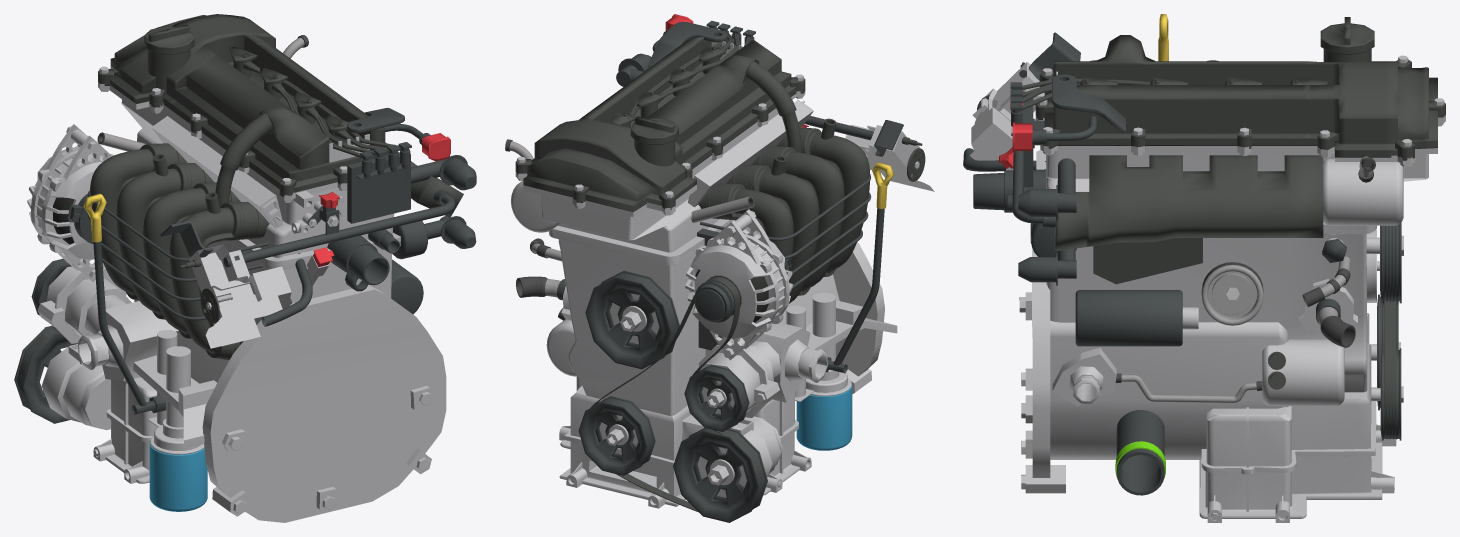
The model's file is engine-i4.glb.
The picture shows the model from 3 angles, left to right: view 1: azimuth 30°, elevation 25°; view 2: azimuth 150°, elevation 25°; view 3: azimuth 270°, elevation 25°; orthographic projection. The views are drawn at different scales.
Visible parts, largest first — view 1: kappa_engine_metal_silver_kappa_engine_metal_silver_0, kappa_engine_plastic_black_kappa_engine_plastic_black_0, kappa_engine_metal_black_kappa_engine_metal_black_0, kappa_engine_metal_blue_kappa_engine_metal_blue_0, kappa_engine_metal_red_kappa_engine_metal_red_0, kappa_engine_yellow_metal_kappa_engine_yellow_metal_0, kappa_engine_net_kappa_engine_net_0; view 2: kappa_engine_metal_silver_kappa_engine_metal_silver_0, kappa_engine_plastic_black_kappa_engine_plastic_black_0, kappa_engine_metal_black_kappa_engine_metal_black_0, kappa_engine_metal_blue_kappa_engine_metal_blue_0, kappa_engine_plastic_black0_kappa_engine_plastic_black0_0, kappa_engine_metal_silver4_kappa_engine_metal_silver4_0, kappa_engine_metal_silver2_kappa_engine_metal_silver2_0, kappa_engine_yellow_metal_kappa_engine_yellow_metal_0; view 3: kappa_engine_metal_silver_kappa_engine_metal_silver_0, kappa_engine_plastic_black_kappa_engine_plastic_black_0, kappa_engine_metal_black_kappa_engine_metal_black_0, kappa_engine_metal_silver2_kappa_engine_metal_silver2_0, kappa_engine_metal_black1_kappa_engine_metal_black1_0, kappa_engine_plastic_black0_kappa_engine_plastic_black0_0, kappa_engine_metal_red_kappa_engine_metal_red_0.
Part boxes in pixels (x1,y1,x2,y2): kappa_engine_metal_silver_kappa_engine_metal_silver_0: [27, 66, 446, 522]; kappa_engine_plastic_black_kappa_engine_plastic_black_0: [18, 14, 463, 403]; kappa_engine_metal_black_kappa_engine_metal_black_0: [14, 107, 476, 423]; kappa_engine_metal_blue_kappa_engine_metal_blue_0: [149, 442, 207, 511]; kappa_engine_metal_red_kappa_engine_metal_red_0: [313, 133, 450, 267]; kappa_engine_yellow_metal_kappa_engine_yellow_metal_0: [83, 193, 106, 242]; kappa_engine_net_kappa_engine_net_0: [53, 197, 74, 244]; kappa_engine_metal_silver_kappa_engine_metal_silver_0: [510, 41, 934, 508]; kappa_engine_plastic_black_kappa_engine_plastic_black_0: [515, 27, 925, 512]; kappa_engine_metal_black_kappa_engine_metal_black_0: [557, 20, 903, 522]; kappa_engine_metal_blue_kappa_engine_metal_blue_0: [796, 383, 852, 450]; kappa_engine_plastic_black0_kappa_engine_plastic_black0_0: [505, 139, 550, 297]; kappa_engine_metal_silver4_kappa_engine_metal_silver4_0: [691, 196, 754, 222]; kappa_engine_metal_silver2_kappa_engine_metal_silver2_0: [509, 141, 562, 297]; kappa_engine_yellow_metal_kappa_engine_yellow_metal_0: [872, 162, 894, 208]; kappa_engine_metal_silver_kappa_engine_metal_silver_0: [970, 55, 1445, 522]; kappa_engine_plastic_black_kappa_engine_plastic_black_0: [977, 17, 1445, 437]; kappa_engine_metal_black_kappa_engine_metal_black_0: [963, 32, 1401, 440]; kappa_engine_metal_silver2_kappa_engine_metal_silver2_0: [1121, 156, 1371, 402]; kappa_engine_metal_black1_kappa_engine_metal_black1_0: [1116, 410, 1164, 495]; kappa_engine_plastic_black0_kappa_engine_plastic_black0_0: [1115, 157, 1375, 390]; kappa_engine_metal_red_kappa_engine_metal_red_0: [999, 103, 1032, 168].
Size of the model in its own units: 1.26 by 1.36 by 1.39.
Materials: 1 (1 with a texture image).
